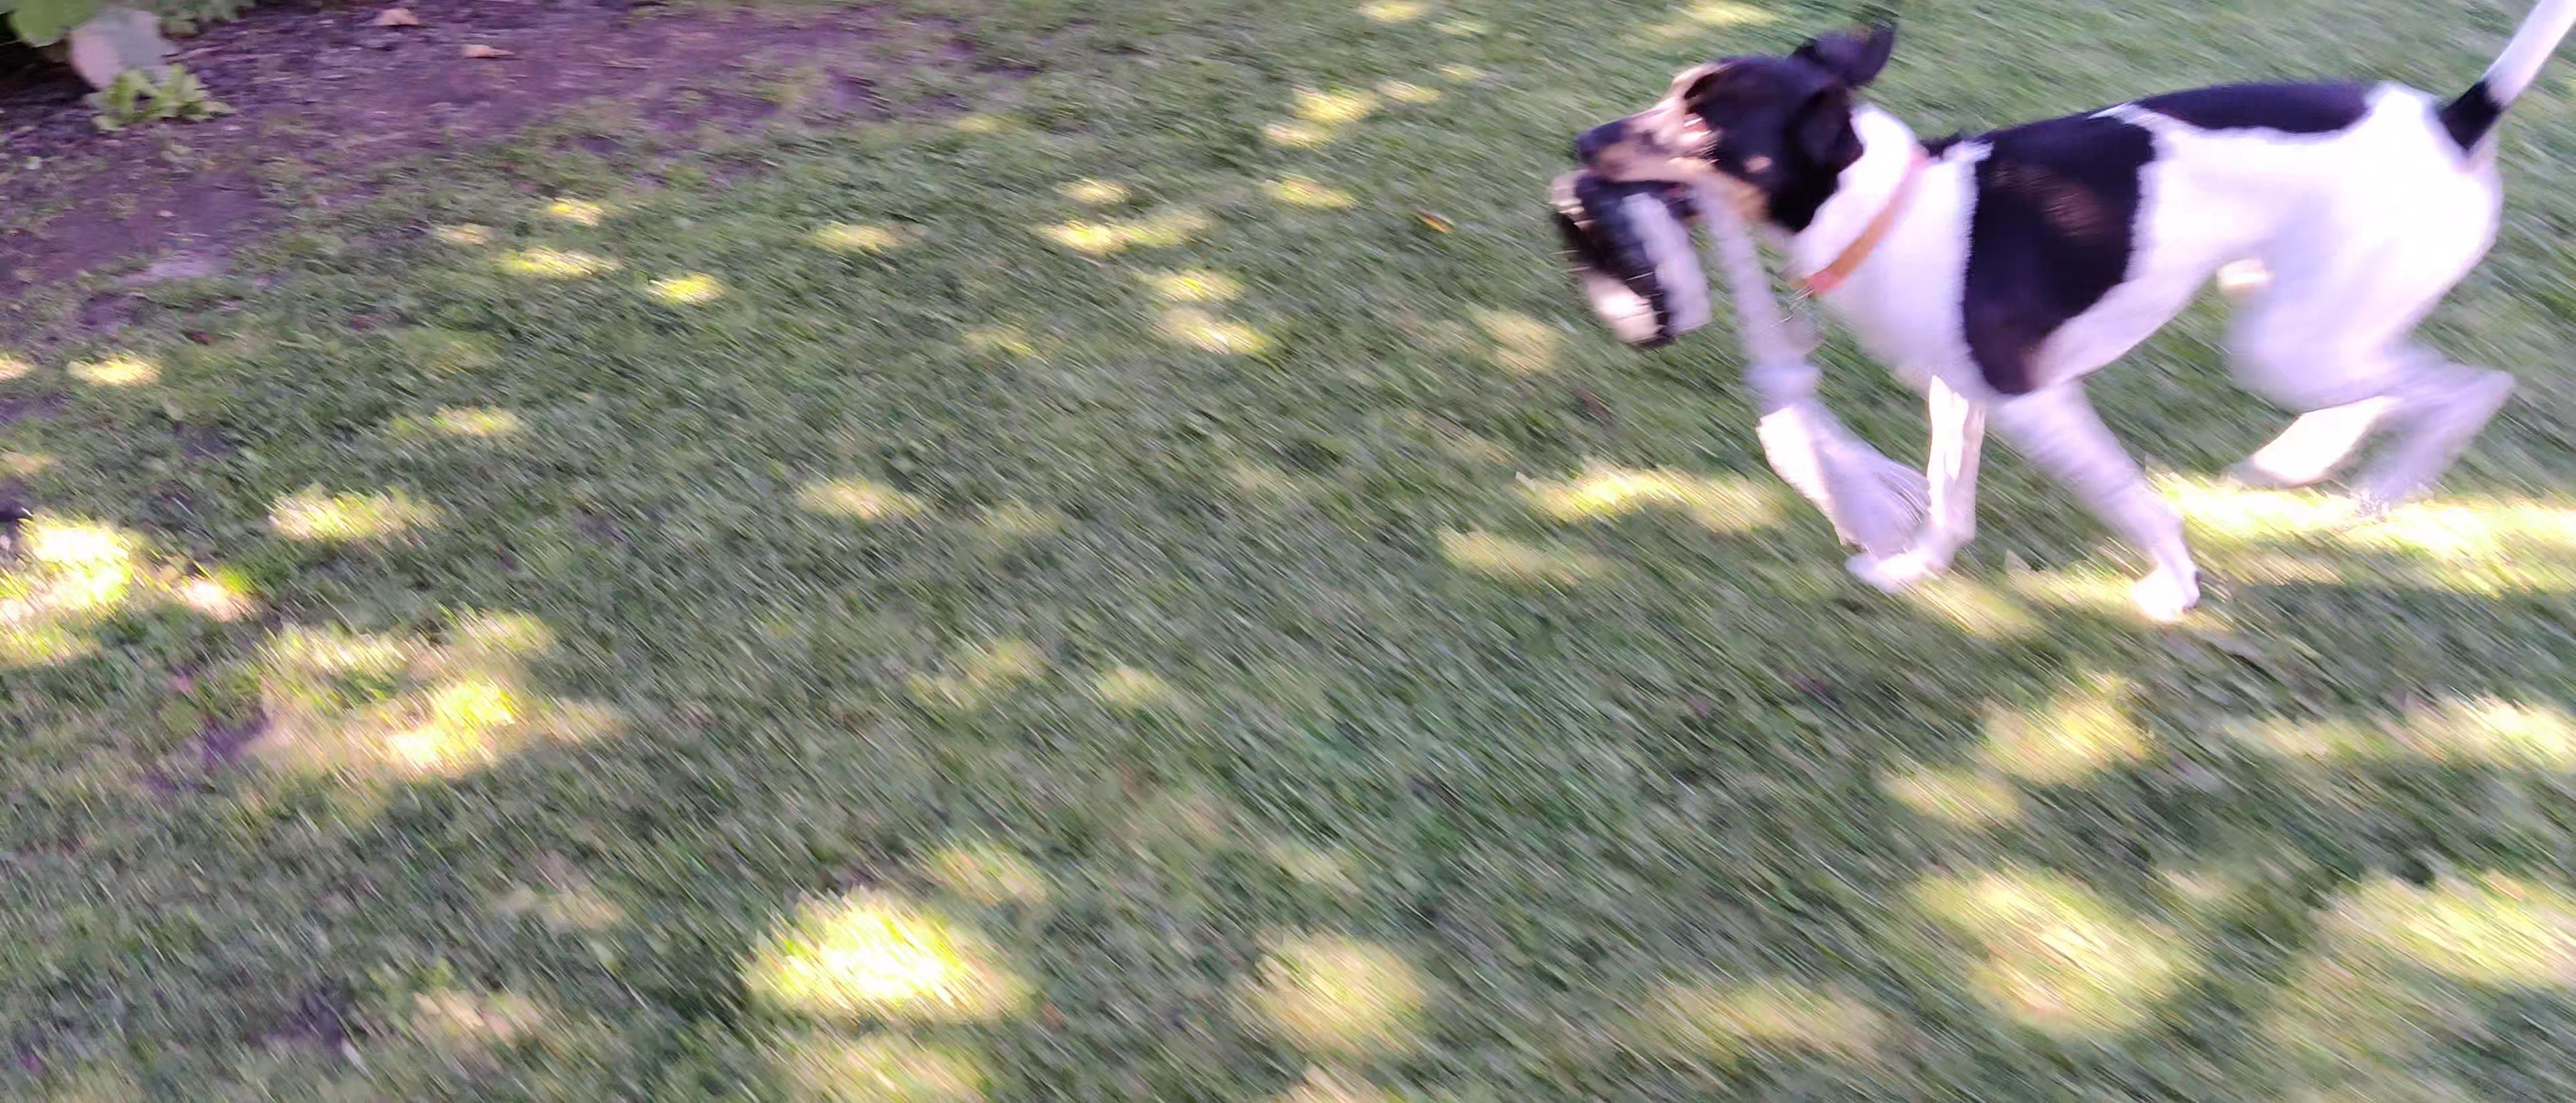Dog: (1557, 0, 2576, 633)
